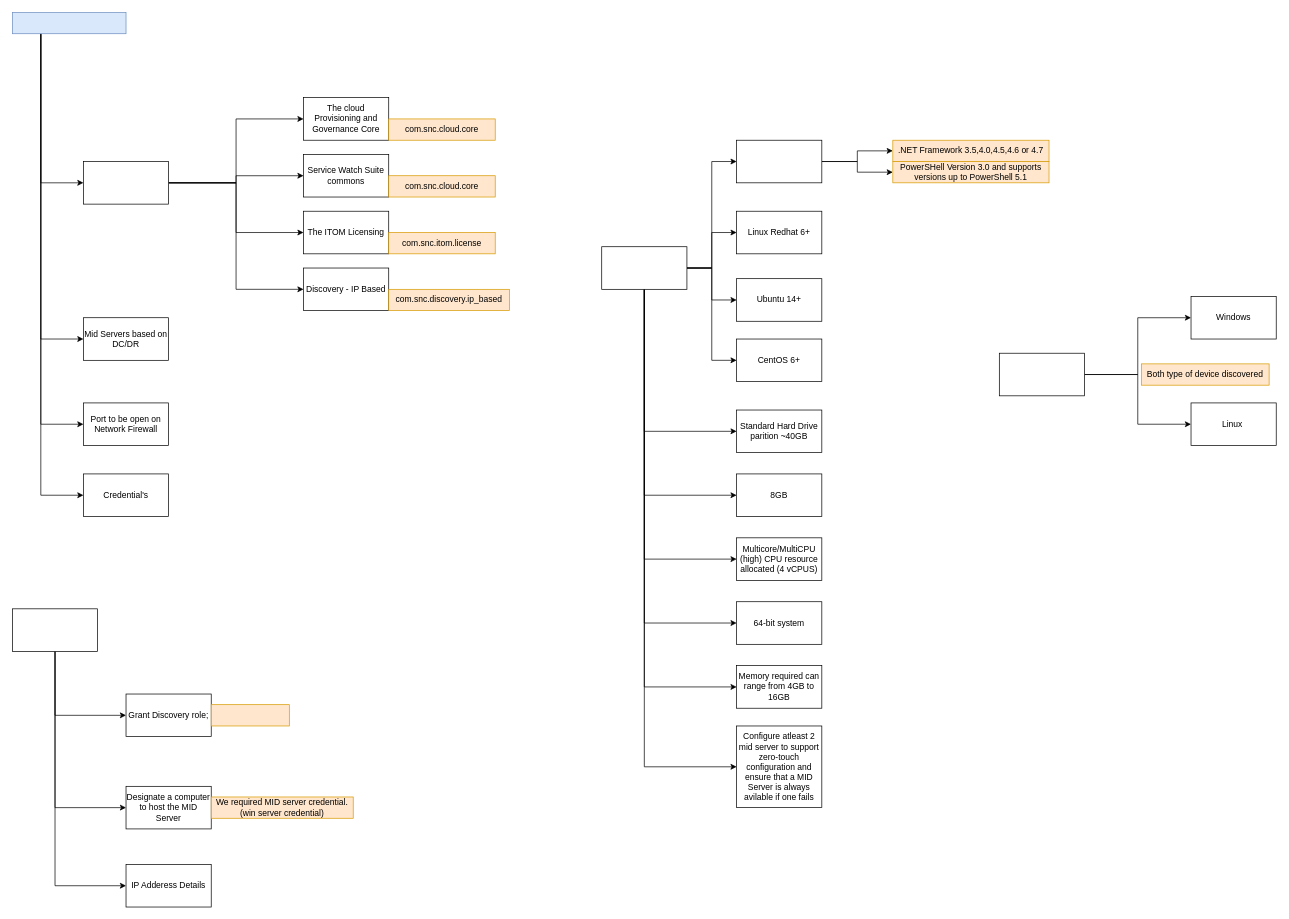
The diagram is 1289 pixels wide and 919 high, and some of its shapes have lost their labels. Each missing label, with the box of its shape:
Before we begin DIscovery: (12, 608, 98, 651)
Discovery Plugin (com.snc.discovery): (83, 161, 169, 204)
discovery_admin: (211, 704, 289, 726)
Hosted on Window: (999, 353, 1085, 396)
MID Server Requirement: (601, 246, 687, 289)
Pre Req for DIscovery: (12, 12, 126, 34)
Windows Server 2012 or greater: (736, 140, 822, 183)
